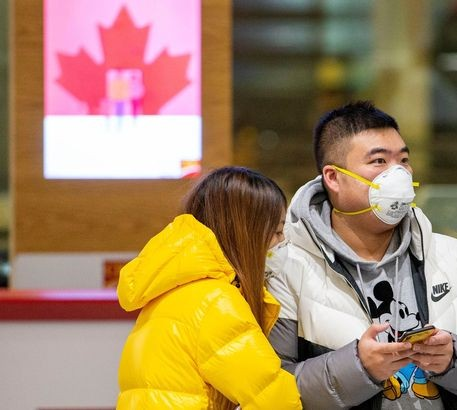with_mask: (317, 117, 417, 236), (220, 168, 290, 306)
